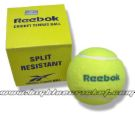tennis ball: (65, 47, 127, 106)
